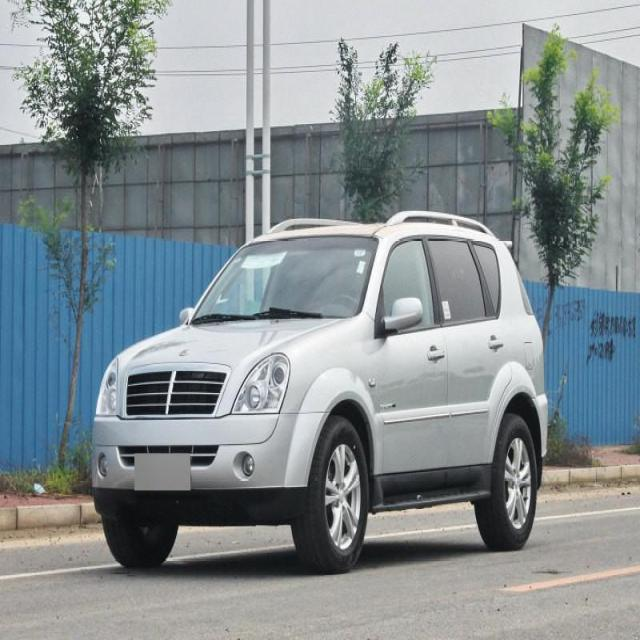door: (424, 233, 518, 482)
front_bumper: (86, 409, 322, 518)
front_glass: (192, 233, 378, 322)
front_left_side_door: (372, 227, 451, 509)
front_left_side_light: (228, 349, 293, 416)
front_left_side_mirror: (382, 296, 424, 334)
front_right_side_light: (94, 354, 122, 418)
wheel: (303, 418, 368, 572), (486, 416, 538, 539), (102, 511, 180, 565)
